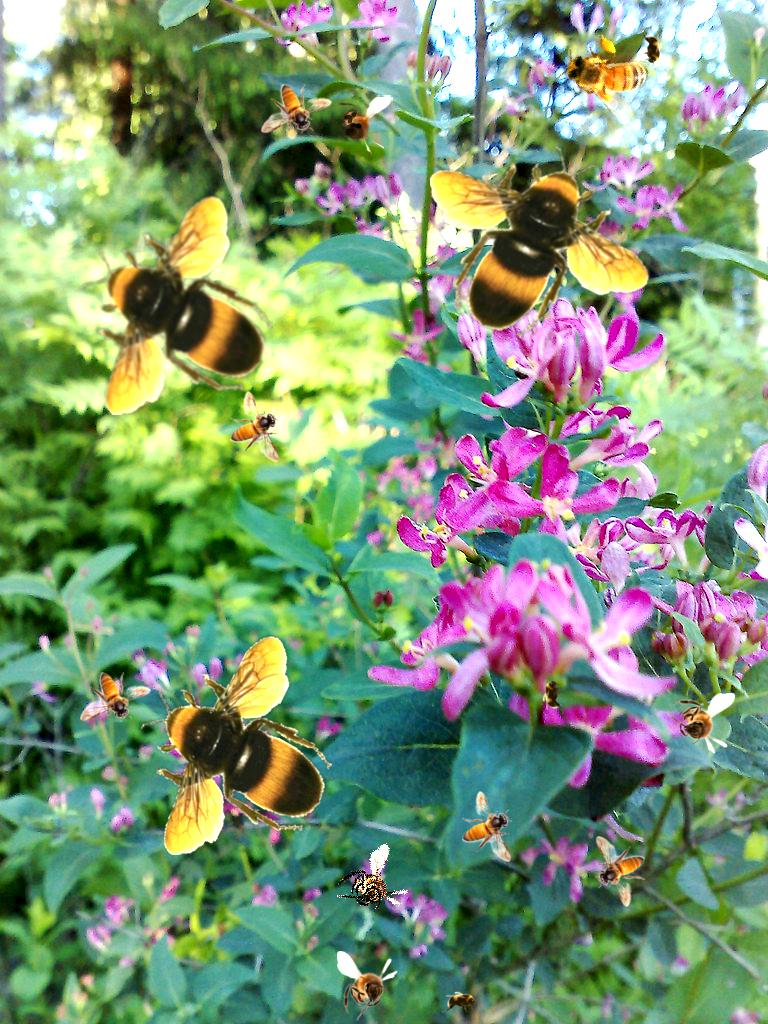Bee: (141, 635, 332, 855), (430, 147, 650, 338), (82, 195, 273, 415), (550, 20, 666, 131), (326, 842, 419, 932), (337, 951, 398, 1021), (323, 95, 393, 156), (665, 693, 735, 754), (595, 836, 645, 907), (230, 391, 280, 462), (261, 84, 332, 134), (80, 672, 151, 722), (462, 791, 512, 862), (542, 674, 564, 714), (641, 30, 663, 70), (442, 991, 482, 1013)
